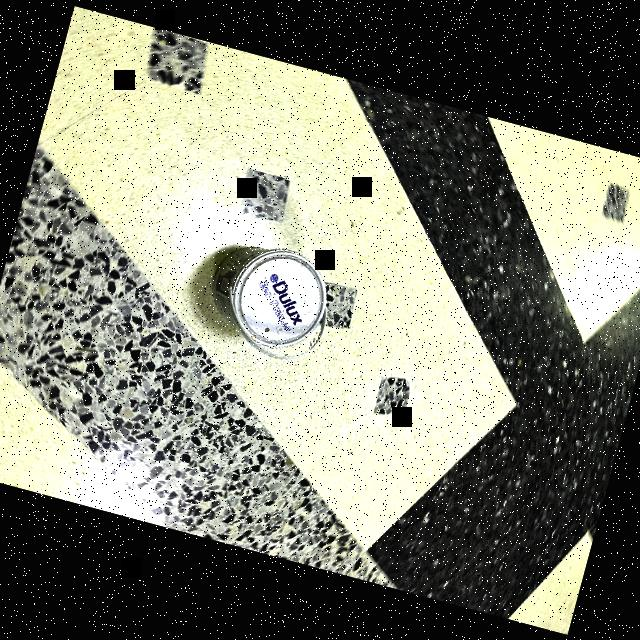paint_bucket: (200, 235, 341, 364)
